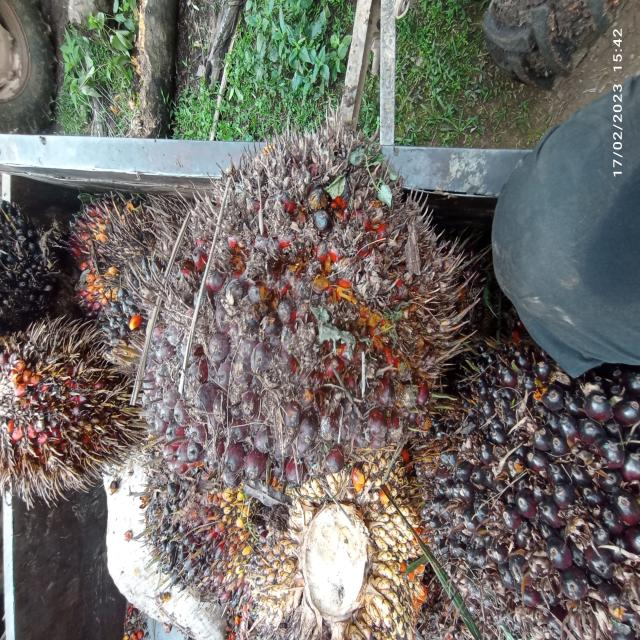fraksi 00: (411, 319, 640, 640), (123, 454, 284, 605), (38, 189, 189, 319)
fraksi 1: (146, 129, 470, 493), (0, 333, 139, 493)
